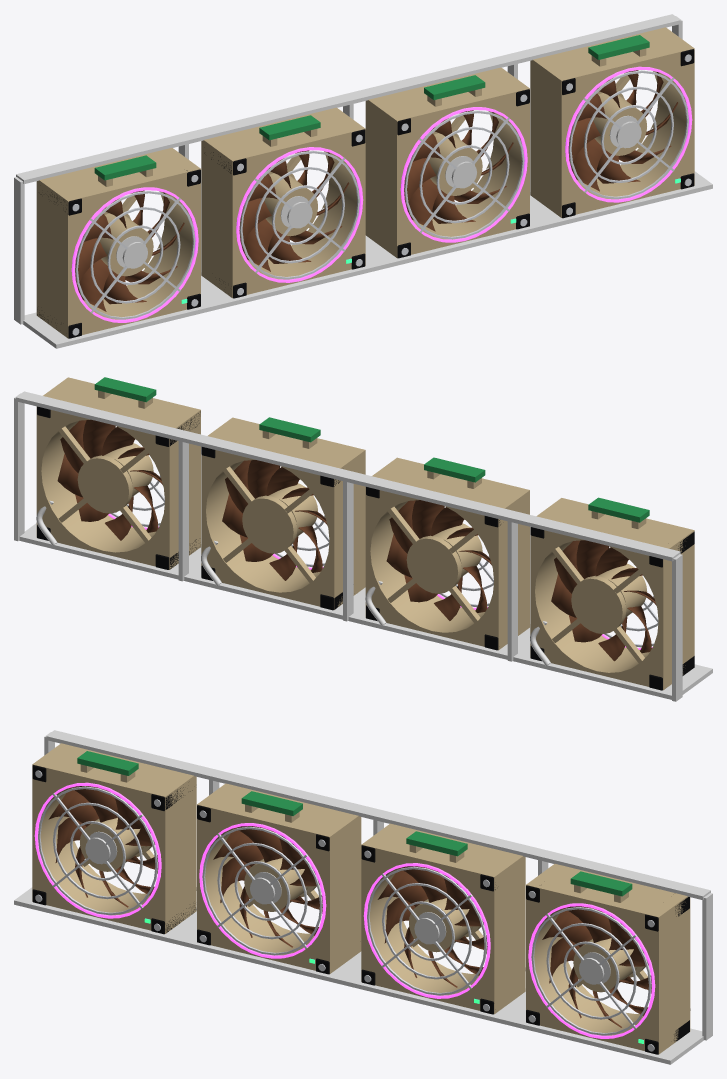
File: hwm_cool_noctua_nhu14s.glb
3 views of the same model, one above another, from view 1: azimuth 30°, elevation 25°; view 2: azimuth 150°, elevation 25°; view 3: azimuth 330°, elevation 25° (orthographic).
Visible parts, largest first — view 1: Body, Rotor_Z_0, Rotor_Z_2, Rotor_Z_3, Rotor_Z_1; view 2: Body, Rotor_Z_0, Rotor_Z_2, Rotor_Z_3, Rotor_Z_1; view 3: Body, Rotor_Z_3, Rotor_Z_1, Rotor_Z_0, Rotor_Z_2.
Boxes of the visible parts, x1,y1,x2,y2 form: Body: (14, 14, 712, 348); Rotor_Z_0: (75, 190, 184, 311); Rotor_Z_2: (404, 110, 513, 231); Rotor_Z_3: (568, 70, 677, 191); Rotor_Z_1: (239, 150, 349, 271); Body: (14, 377, 712, 701); Rotor_Z_0: (551, 540, 656, 661); Rotor_Z_2: (222, 460, 327, 580); Rotor_Z_3: (57, 419, 162, 540); Rotor_Z_1: (386, 500, 491, 620); Body: (14, 730, 712, 1064); Rotor_Z_3: (542, 906, 651, 1027); Rotor_Z_1: (213, 826, 322, 947); Rotor_Z_0: (48, 786, 158, 907); Rotor_Z_2: (377, 866, 487, 987).
Bounding box in the file's own units: 0.4628 × 0.1033 × 0.049.
